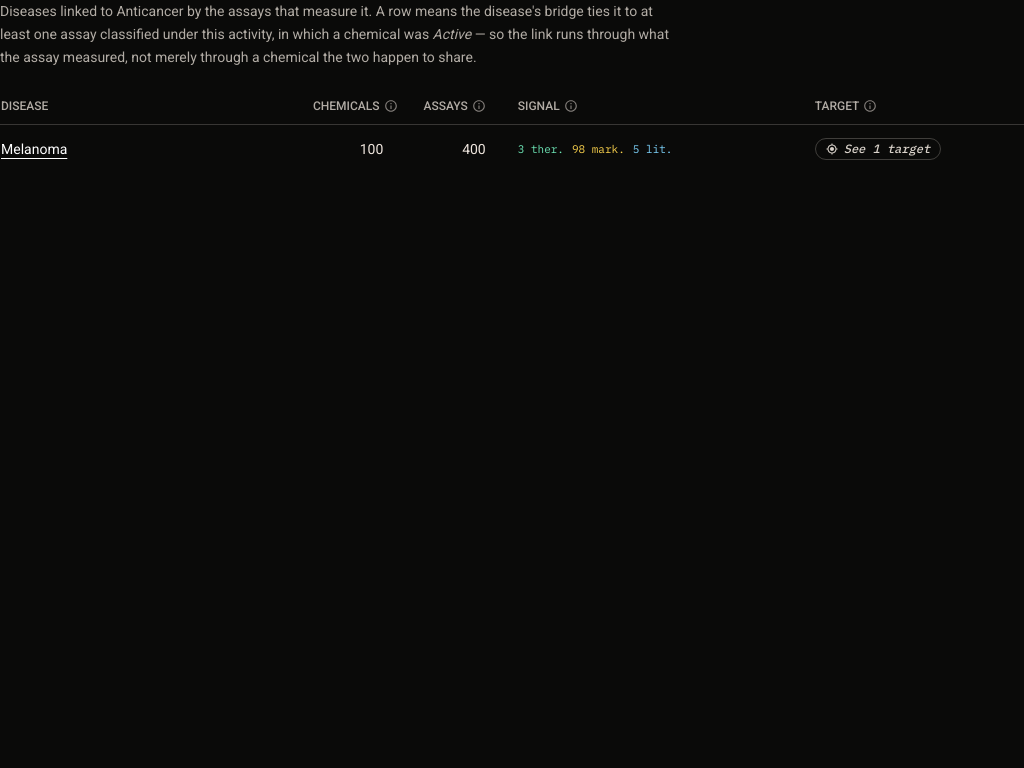
Test case: Bioactivity Diseases tab › states the target count on a button and lists them in a modal
Click the button "See 1 target": click(878, 149) 815,138 -> 941,160
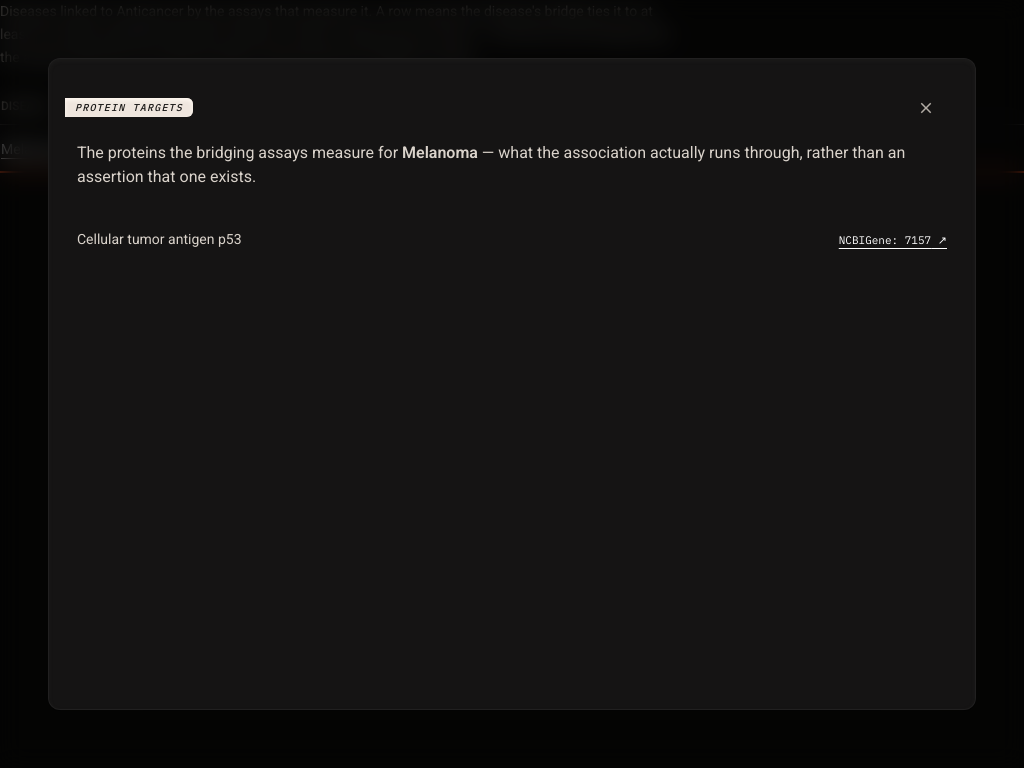
Expected: the heading "Protein targets" is shown, 65,98 -> 193,117
Expected: the text "Cellular tumor antigen p53" is shown, 77,229 -> 242,249
